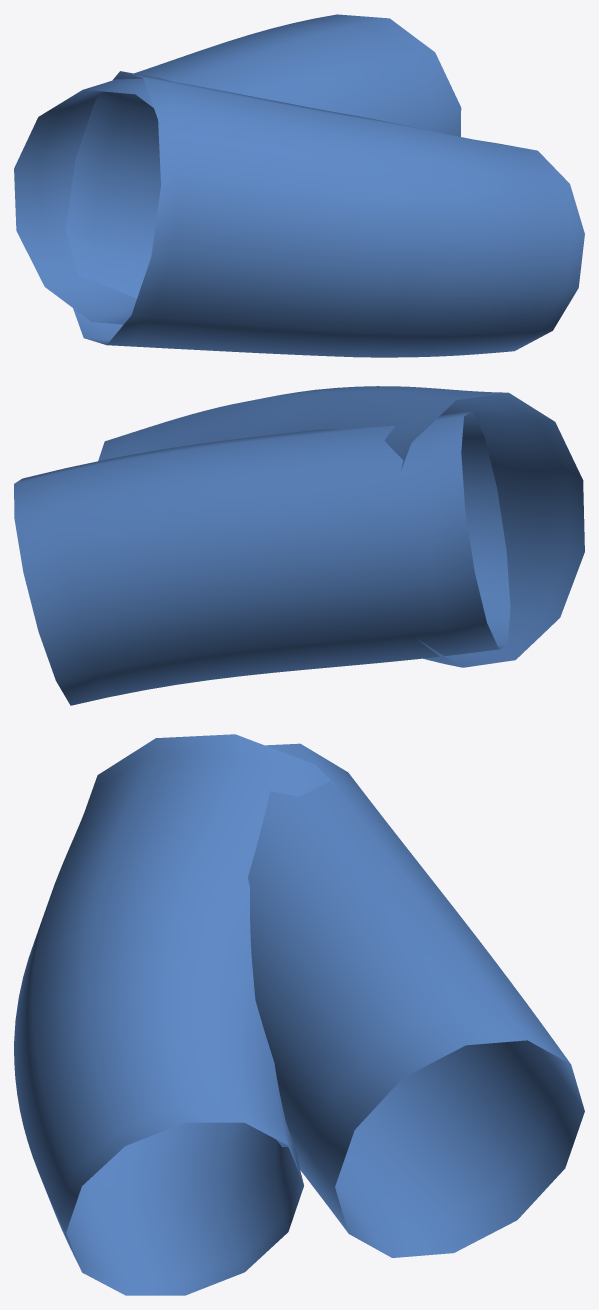
The picture shows the model from 3 angles, top to bottom: view 1: azimuth 30°, elevation 25°; view 2: azimuth 150°, elevation 25°; view 3: azimuth 270°, elevation 25°; orthographic projection. The views are drawn at different scales.
Visible parts, largest first — view 1: 左肺下静脉; view 2: 左肺下静脉; view 3: 左肺下静脉.
Boxes of the visible parts, <box> form: 左肺下静脉: <box>14,14,584,357</box>; 左肺下静脉: <box>14,386,584,705</box>; 左肺下静脉: <box>14,734,584,1295</box>.
Bounding box in the file's own units: 0.0223 × 0.0152 × 0.0205.
